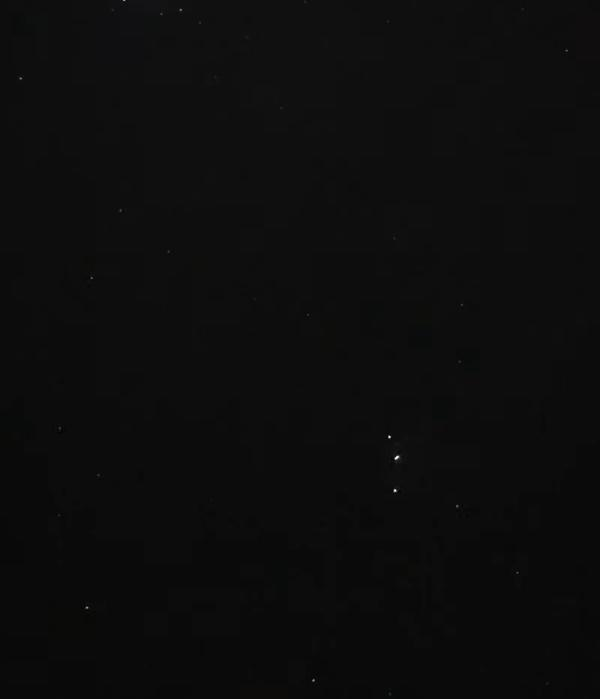Plane: (378, 414, 407, 512)
